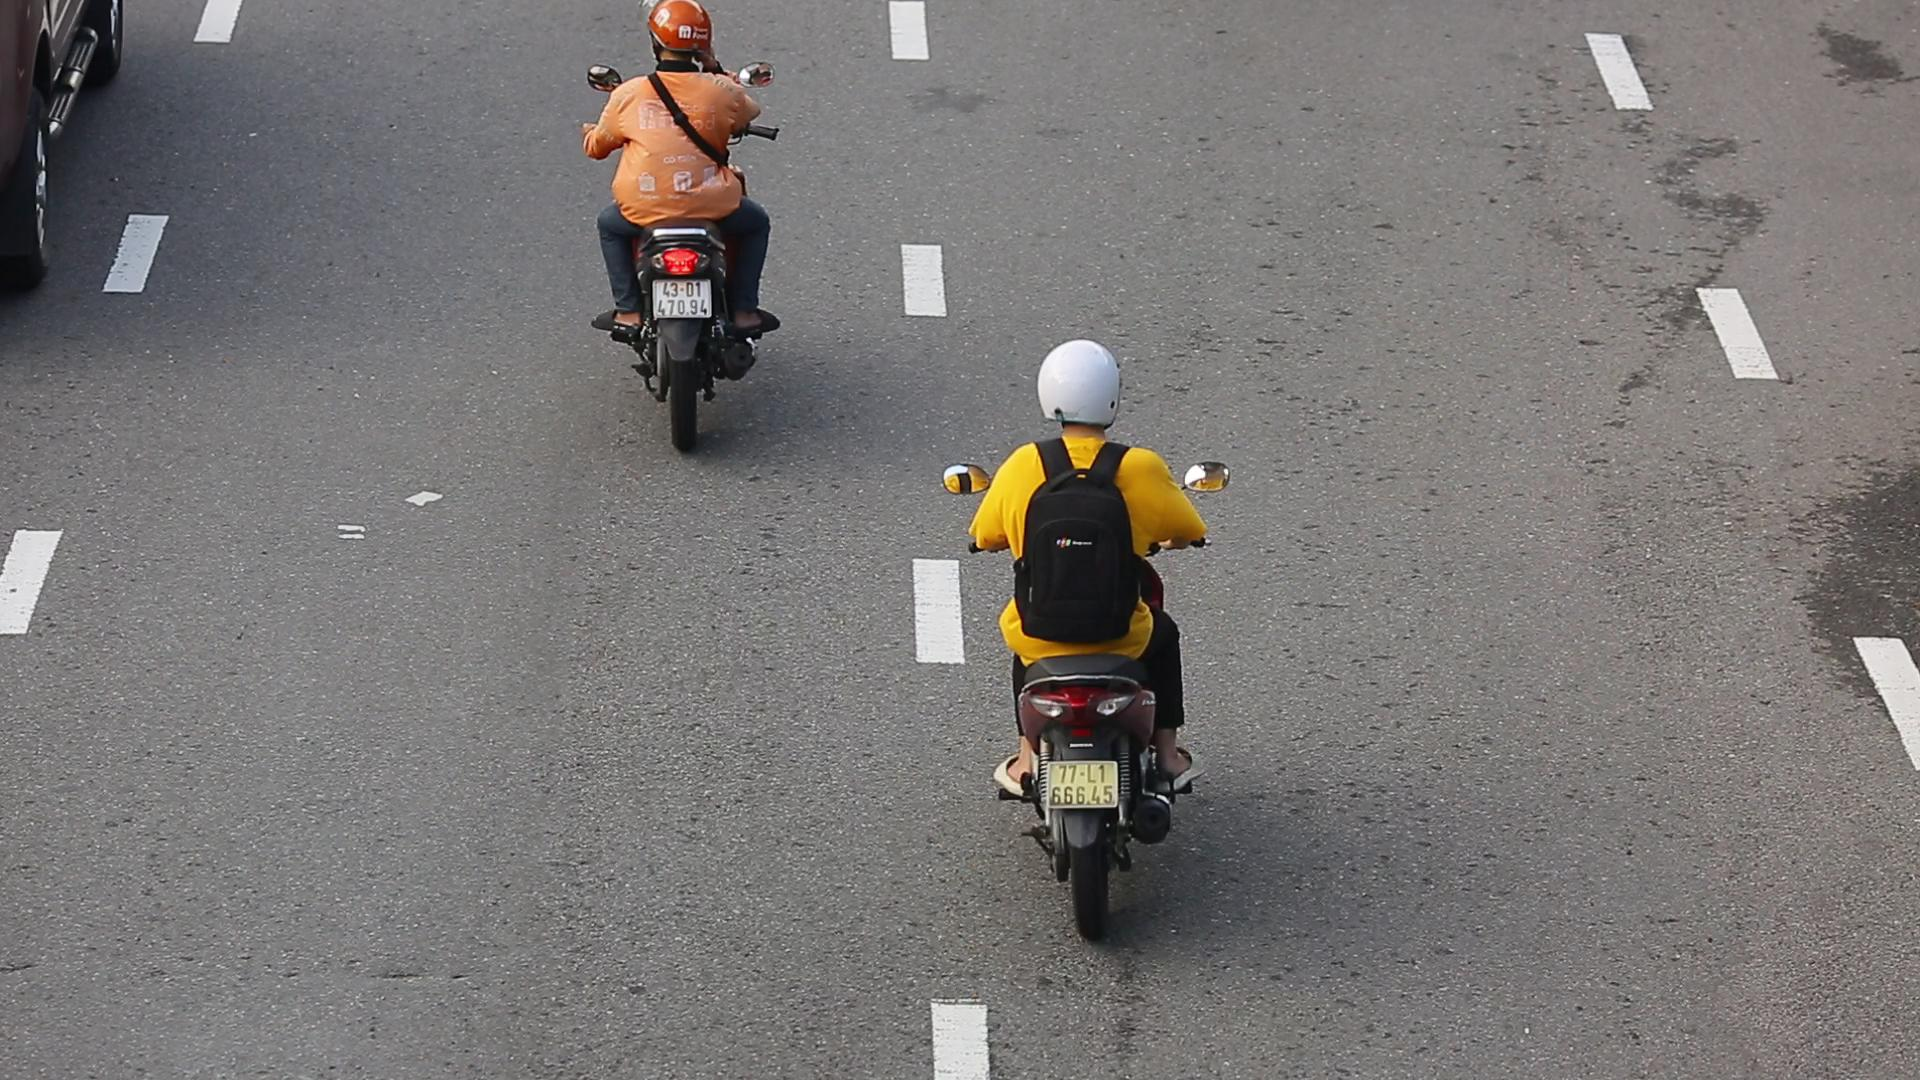motobike: (953, 330, 1221, 934), (568, 0, 810, 476)
